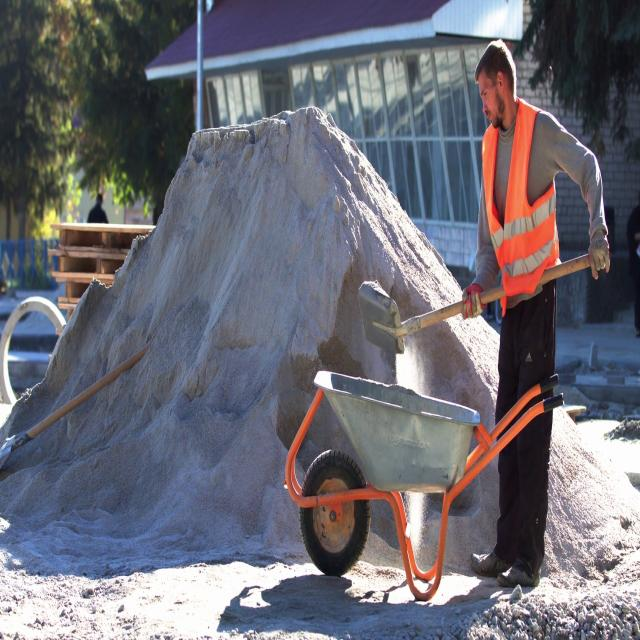gloved: (588, 230, 610, 280), (461, 284, 485, 320)
